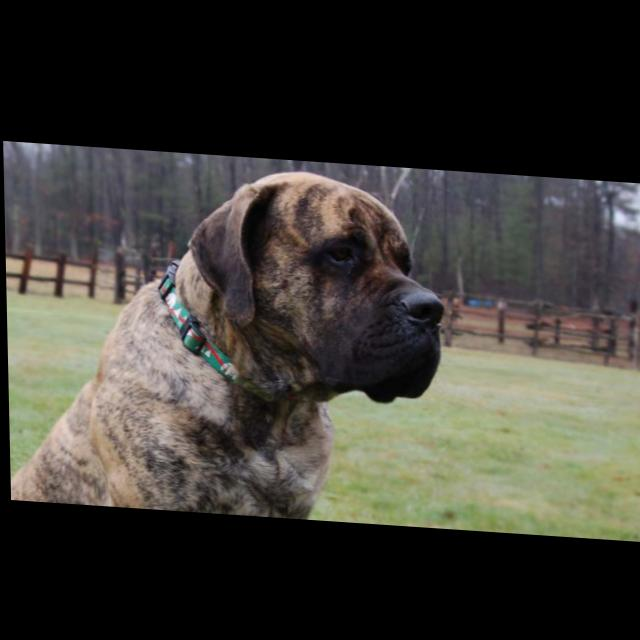other_dog_breed: (4, 150, 448, 523)
